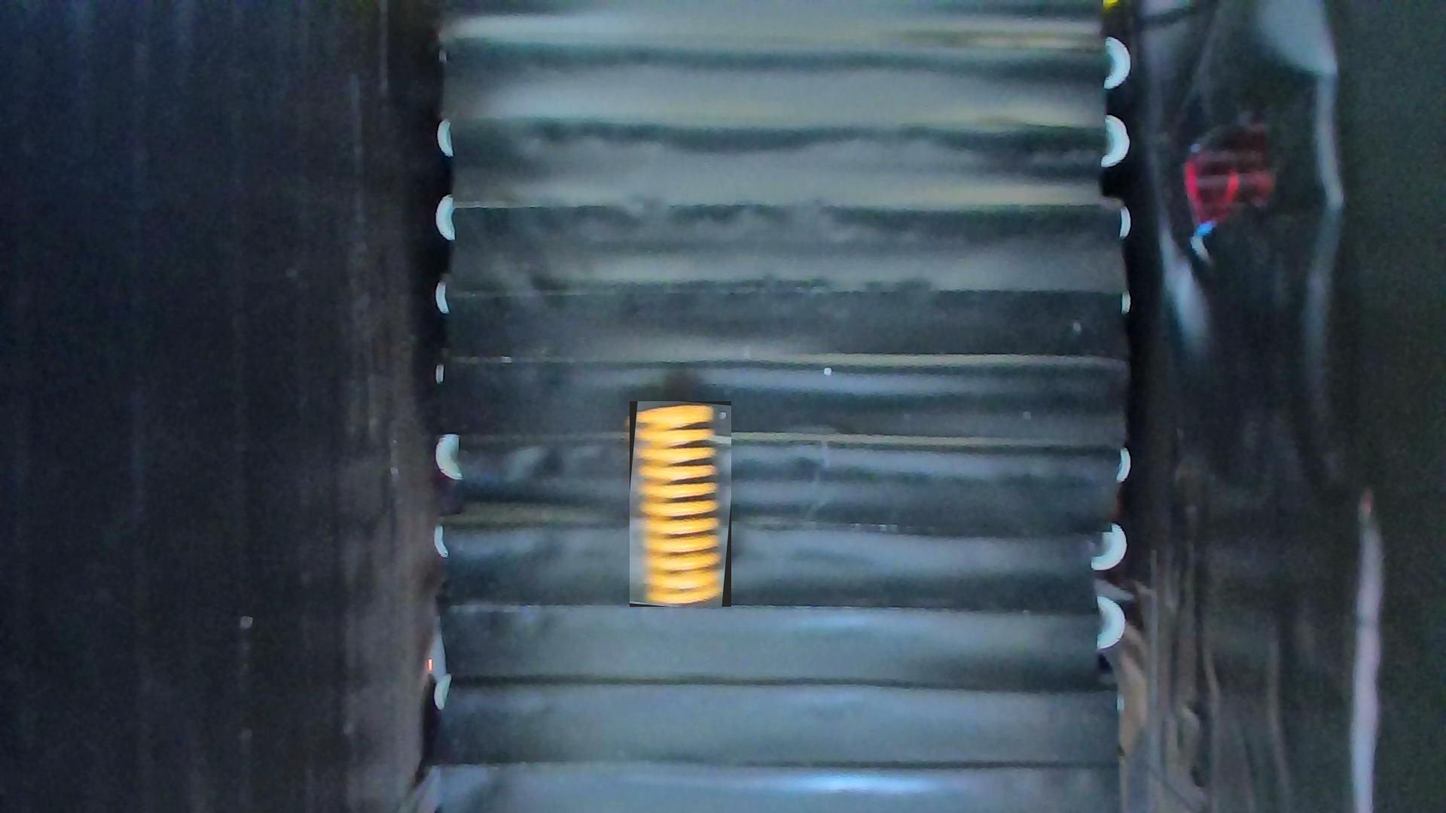spring: (630, 401, 731, 607)
